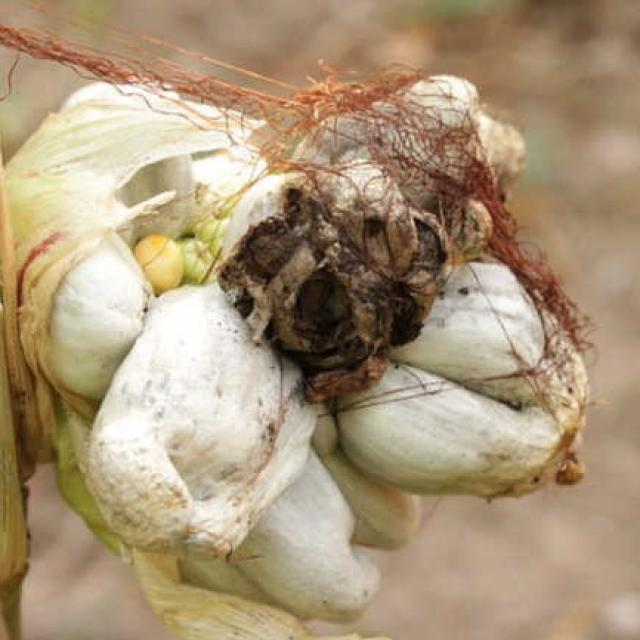Leaf_Scald: (2, 36, 590, 620)
